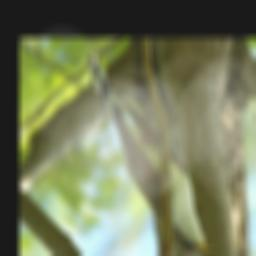Cuckoo: (88, 55, 214, 256)
